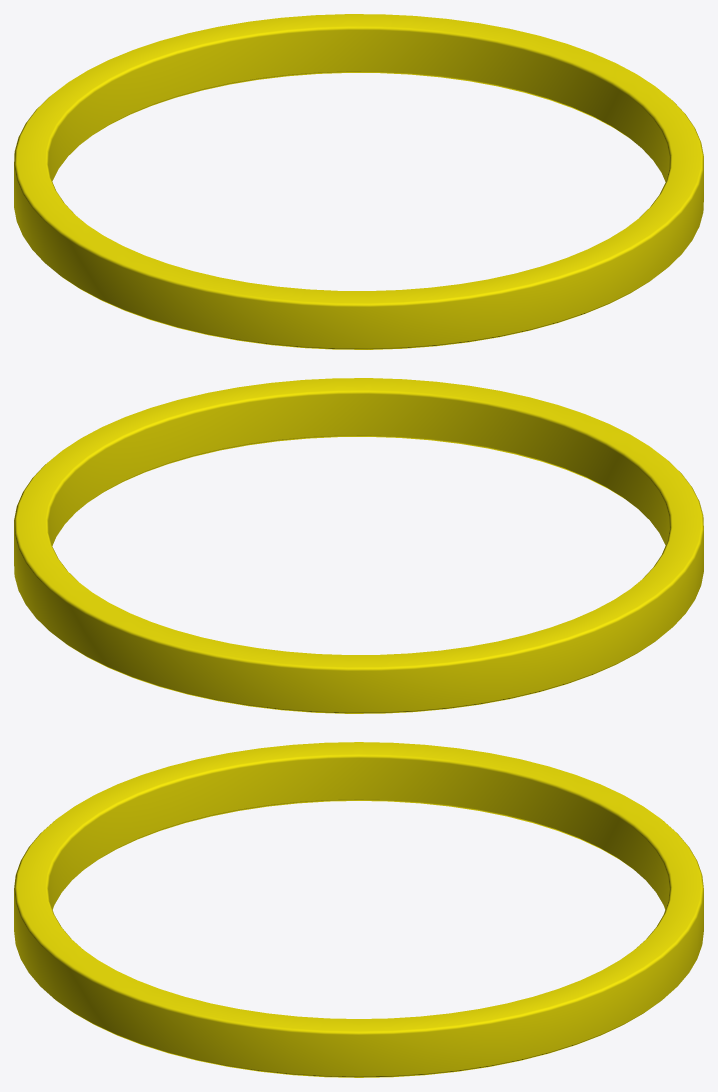
3 views of the same model, one above another, from view 1: azimuth 30°, elevation 25°; view 2: azimuth 150°, elevation 25°; view 3: azimuth 270°, elevation 25° (orthographic).
Parts seen in each view (by area): view 1: seal_body; view 2: seal_body; view 3: seal_body.
Part boxes in pixels (x1,y1,x2,y2): seal_body: (14, 14, 703, 349); seal_body: (14, 378, 703, 713); seal_body: (14, 742, 703, 1077).
Bounding box in the file's own units: 0.1905 × 0.0143 × 0.1905.
